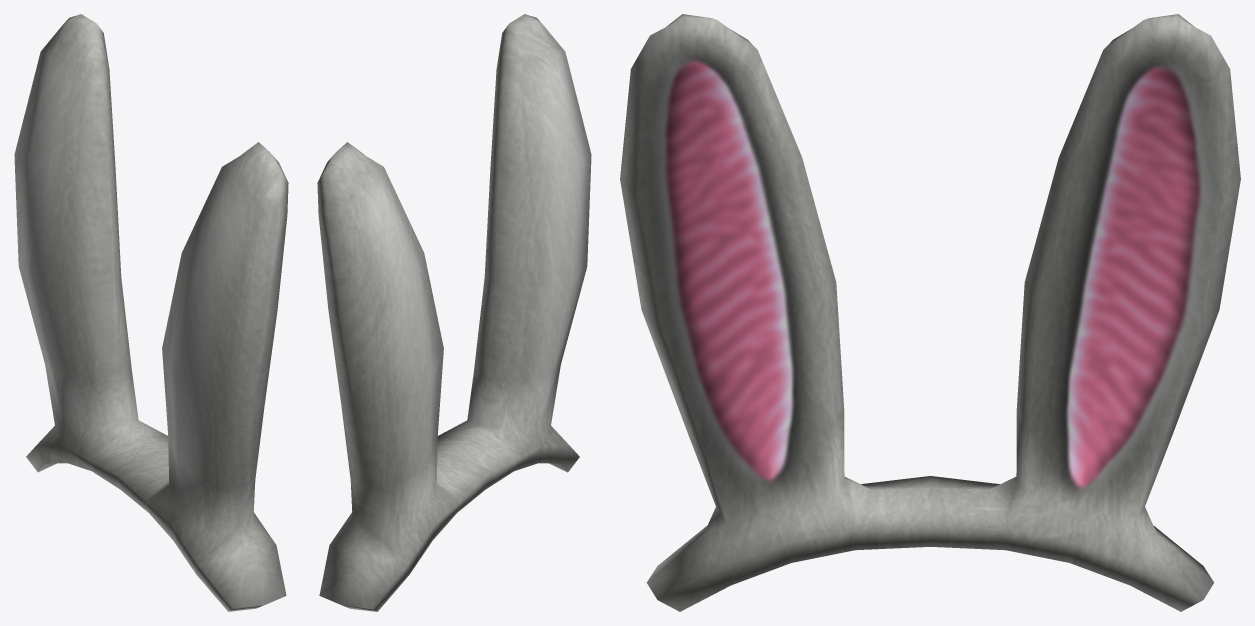
The model's file is BunnyEarsHat.FBX.
3 renders of one model, left to right at view 1: azimuth 30°, elevation 25°; view 2: azimuth 150°, elevation 25°; view 3: azimuth 270°, elevation 25°, orthographic. The views are drawn at different scales.
Parts seen in each view (by area): view 1: Box001; view 2: Box001; view 3: Box001.
Boxes of the visible parts, x1,y1,x2,y2 form: Box001: (14, 14, 288, 611); Box001: (317, 14, 591, 611); Box001: (620, 14, 1240, 611).
Bounding box in the file's own units: 29.76 × 140 × 134.
